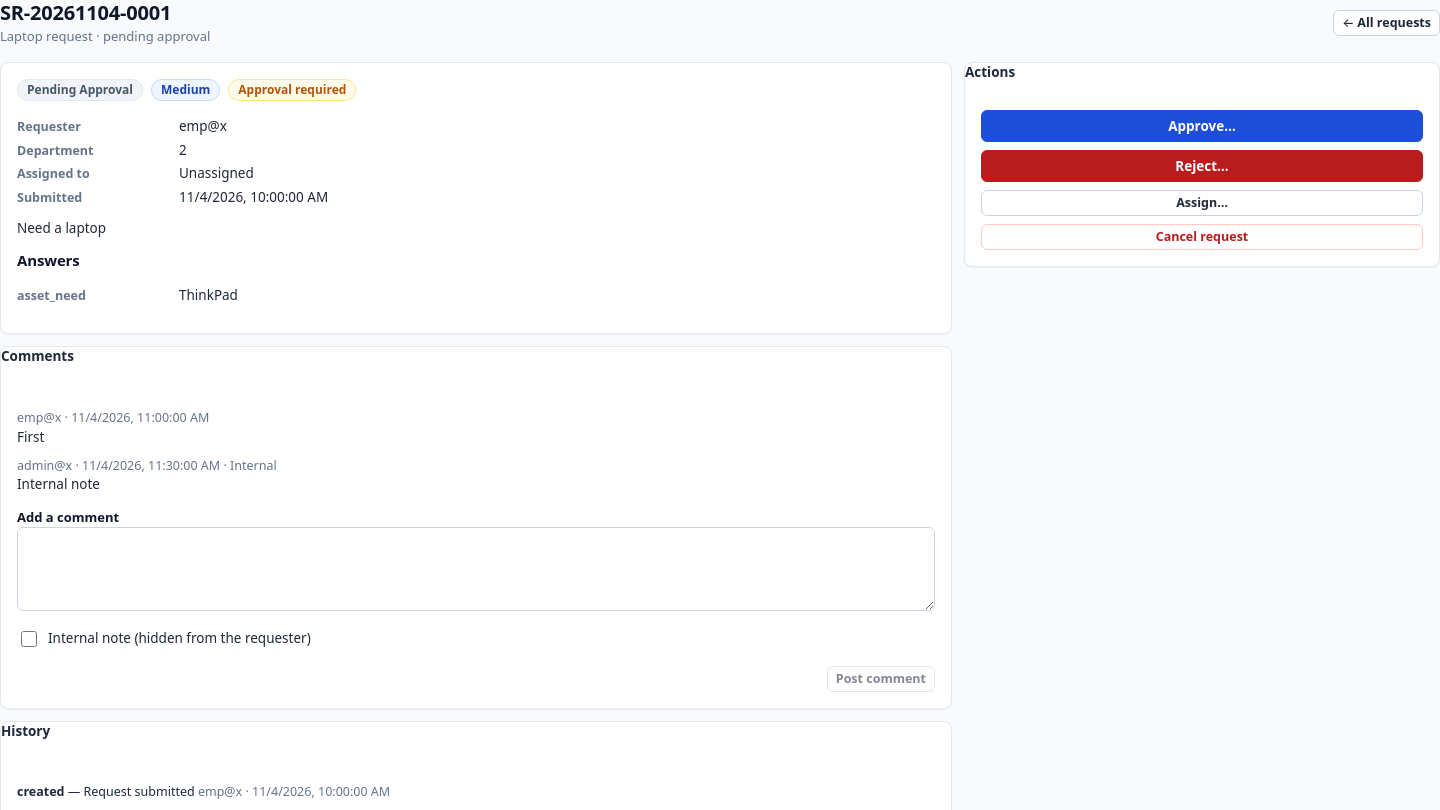
Test: Service request detail › approves a pending request
Expected: the heading "SR-20261104-0001" is shown, [0,0,171,26]
Click the button "Approve…": (1202, 126) [981,110,1423,142]
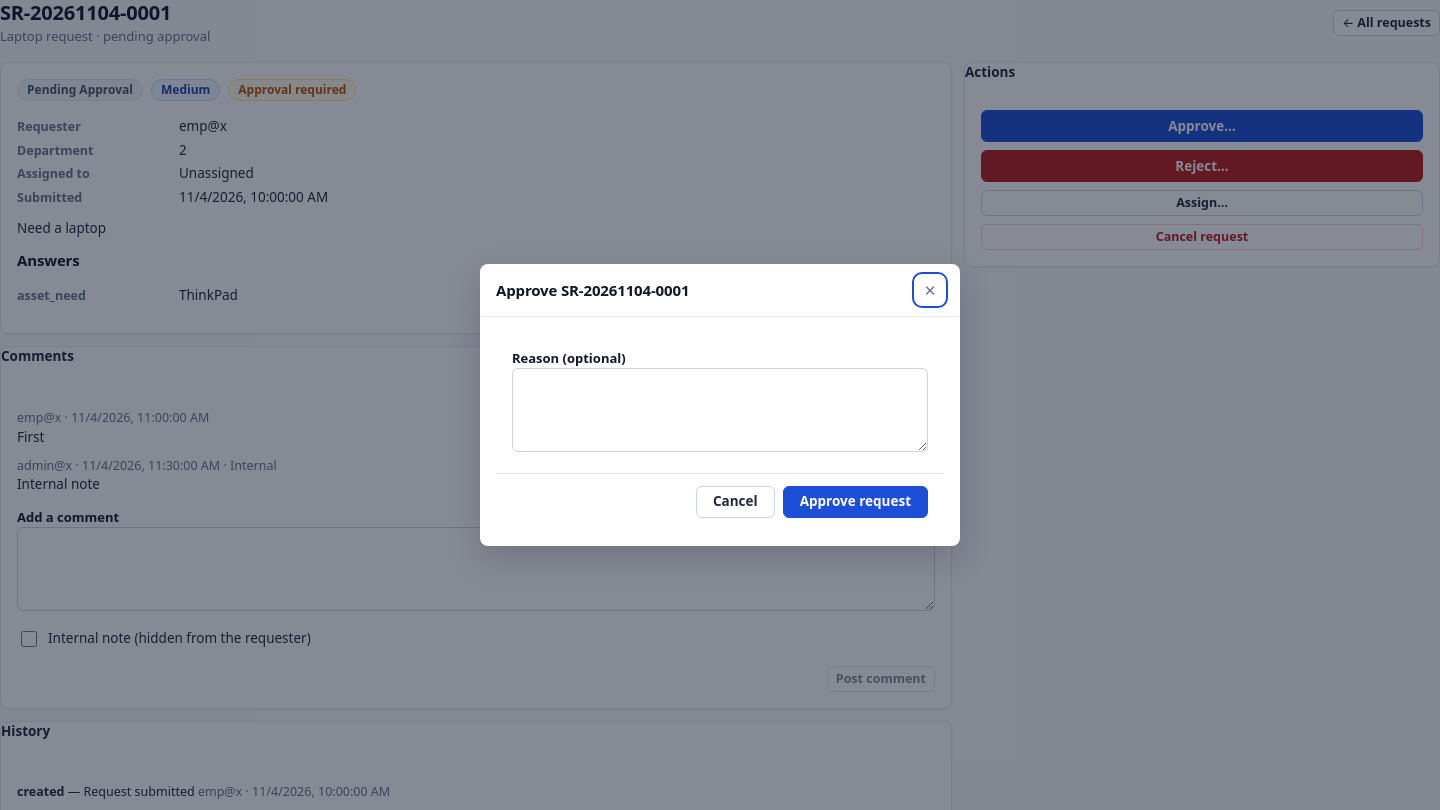
Click the button "Approve request": (855, 502) [783,486,928,518]
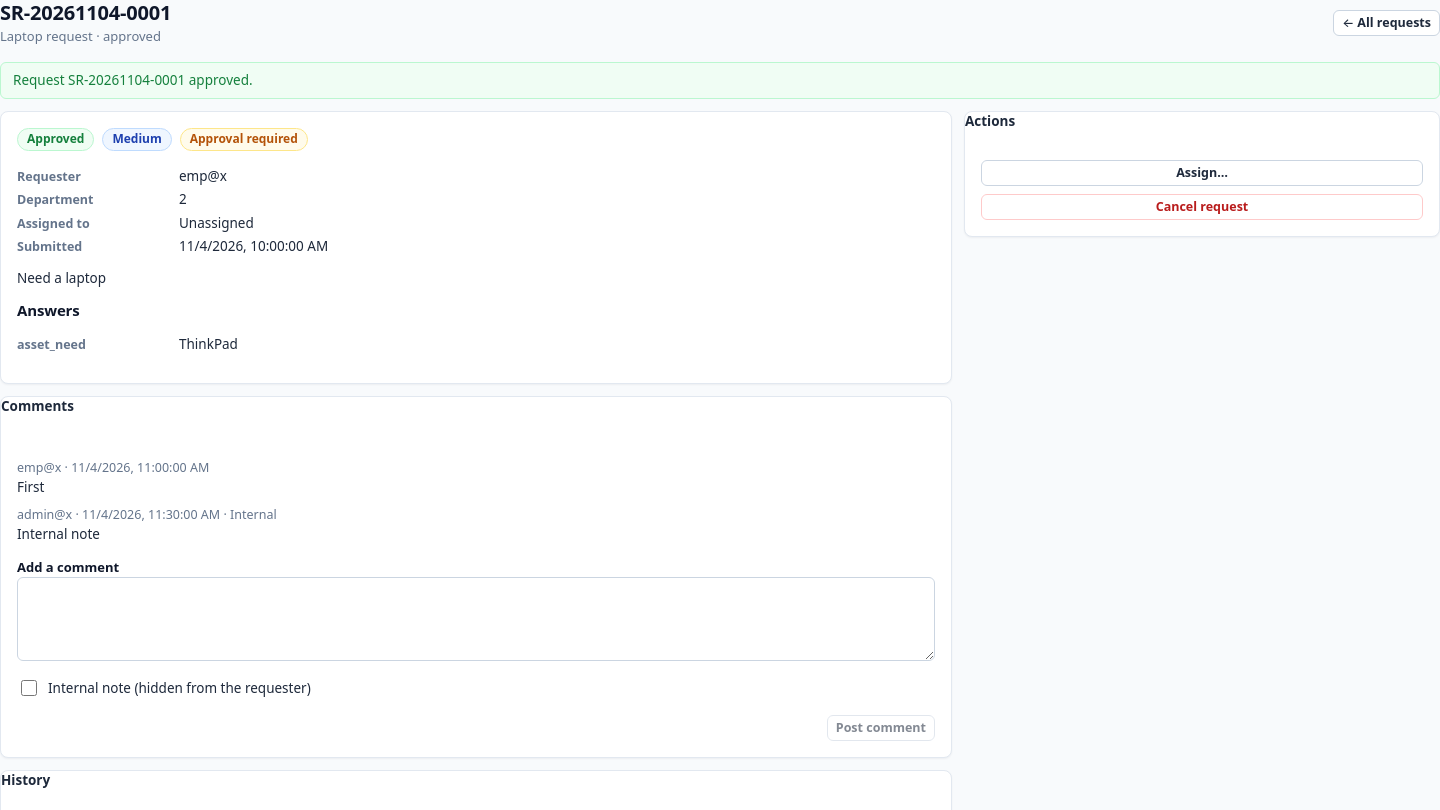
Expected: the text "Request SR-20261104-0001 approved." is shown, [0,62,1439,99]
